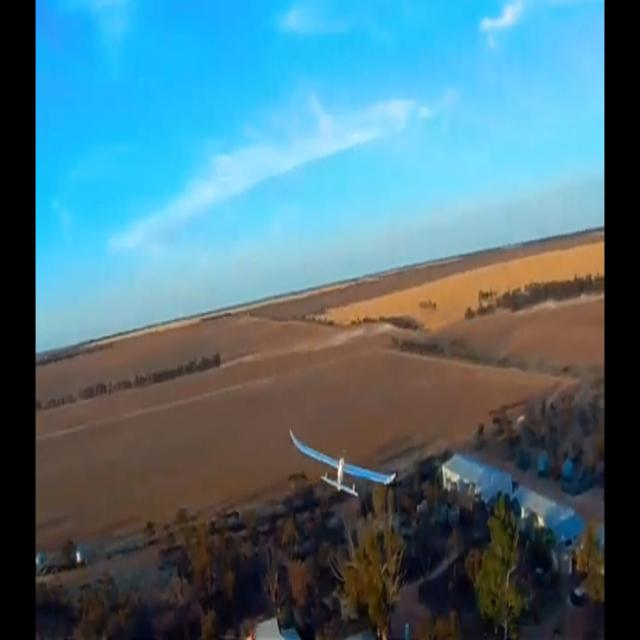iha: (320, 459, 364, 463)
